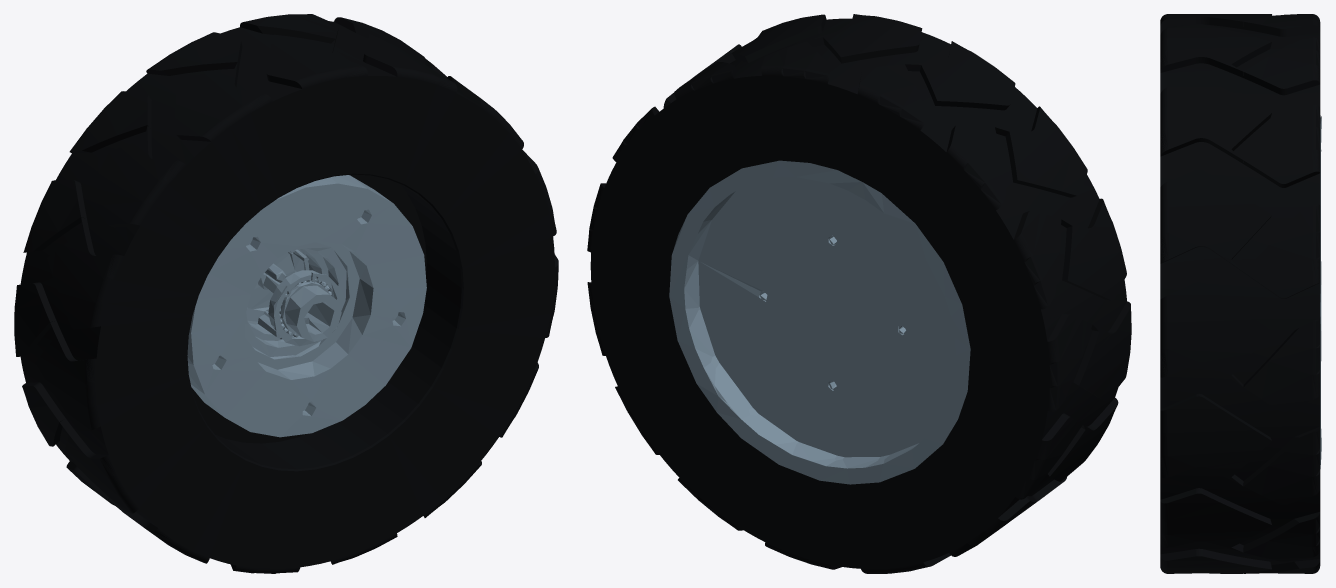
Rendered from wheel_FR.dae.
3 views of the same model, side by side, from view 1: azimuth 30°, elevation 25°; view 2: azimuth 150°, elevation 25°; view 3: azimuth 270°, elevation 25° (orthographic). The views are drawn at different scales.
Parts seen in each view (by area): view 1: node; view 2: node; view 3: node.
Boxes of the visible parts, x1,y1,x2,y2 form: node: [14, 14, 558, 573]; node: [587, 14, 1131, 573]; node: [1160, 14, 1321, 573].
Size of the model in its own units: 0.35 by 0.101 by 0.35.
